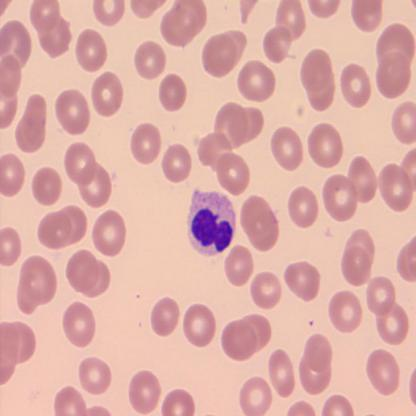Segmented neutrophil: (185, 186, 238, 258)
